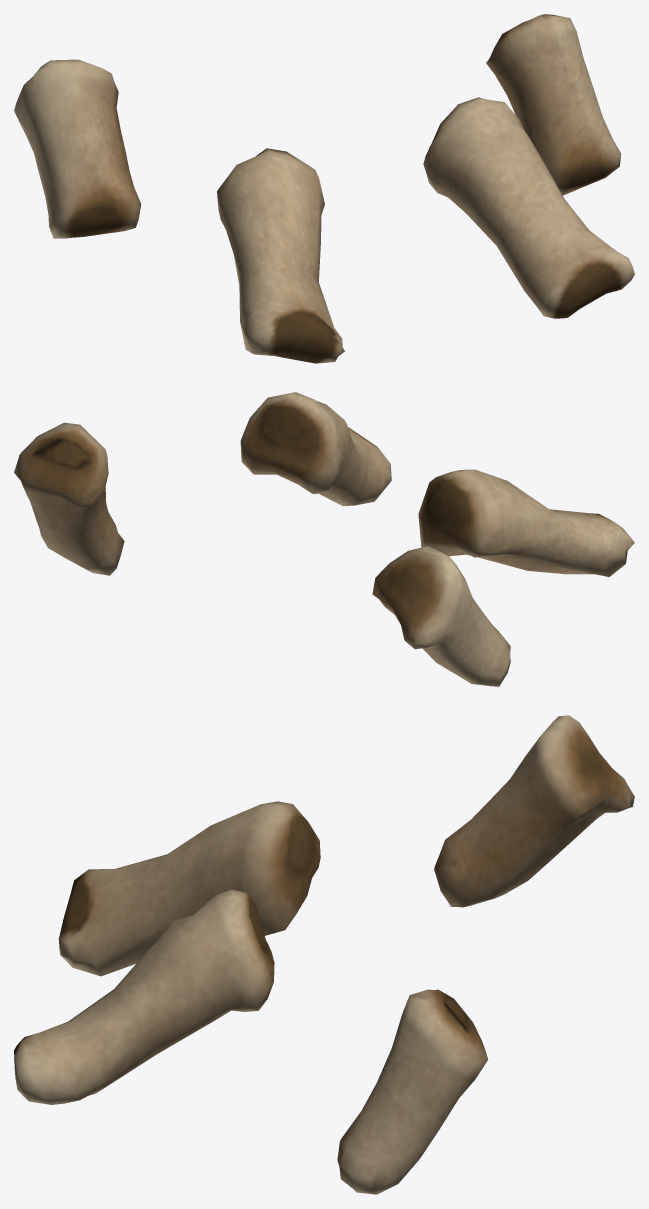
Rendered from Middle Phalanges.glb.
The picture shows the model from 3 angles, top to bottom: view 1: azimuth 30°, elevation 25°; view 2: azimuth 150°, elevation 25°; view 3: azimuth 270°, elevation 25°; orthographic projection. The views are drawn at different scales.
Visible parts, largest first — view 1: polySurface16, polySurface15, polySurface14, polySurface17; view 2: polySurface15, polySurface16, polySurface14, polySurface17; view 3: polySurface16, polySurface15, polySurface14, polySurface17.
Part boxes in pixels (x1=…): polySurface16: x1=423, y1=97, x2=634, y2=318; polySurface15: x1=217, y1=148, x2=344, y2=363; polySurface14: x1=14, y1=59, x2=141, y2=238; polySurface17: x1=486, y1=14, x2=621, y2=195; polySurface15: x1=418, y1=469, x2=634, y2=576; polySurface16: x1=240, y1=392, x2=391, y2=505; polySurface14: x1=372, y1=546, x2=510, y2=686; polySurface17: x1=14, y1=422, x2=124, y2=575; polySurface16: x1=14, y1=889, x2=274, y2=1104; polySurface15: x1=58, y1=801, x2=320, y2=976; polySurface14: x1=434, y1=715, x2=634, y2=907; polySurface17: x1=337, y1=989, x2=488, y2=1194.
Bounding box in the file's own units: 40.53 × 13.35 × 35.
1 material, 1 textured.
